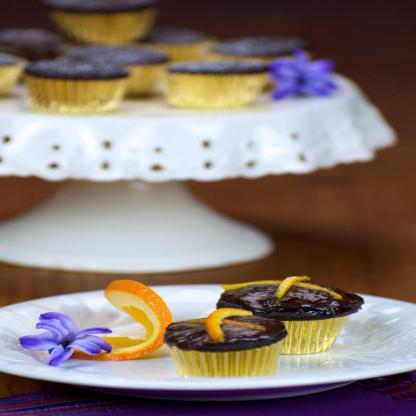Orange: (84, 291, 173, 358)
